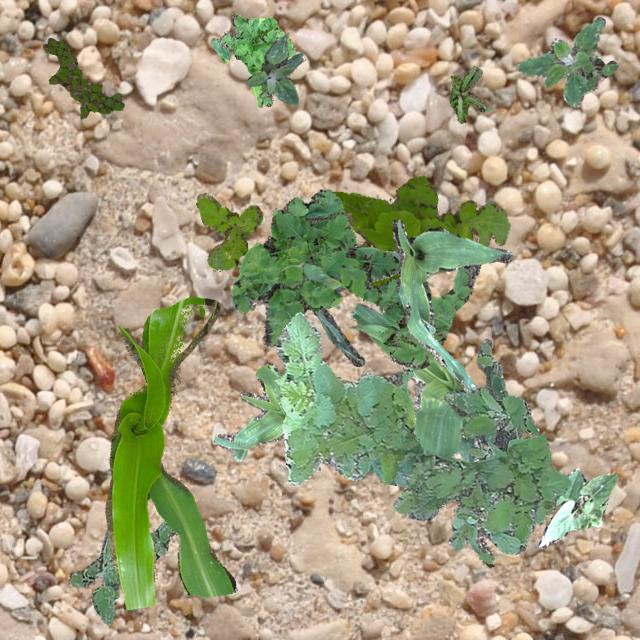crop: (104, 296, 234, 608), (349, 303, 494, 566), (391, 218, 512, 392), (301, 246, 398, 366), (212, 362, 284, 459), (538, 467, 616, 548)
weed: (274, 311, 570, 554), (231, 188, 479, 368), (331, 174, 509, 286), (442, 338, 538, 460), (68, 520, 174, 624), (516, 15, 616, 106), (210, 12, 294, 106), (41, 36, 122, 118), (194, 192, 262, 268), (246, 32, 302, 104), (448, 64, 488, 122)
